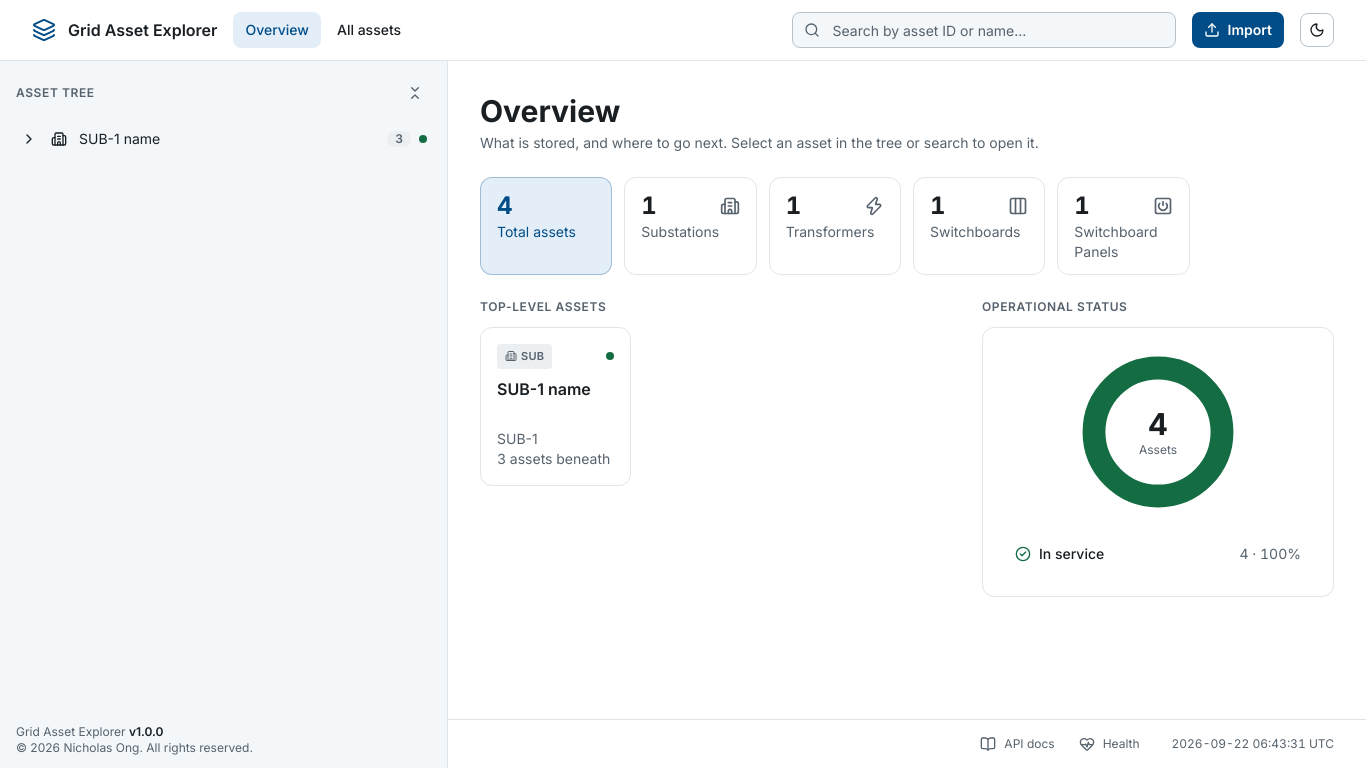
Test case: AssetTree › selecting a node navigates to /assets/:id
Click the list item "SUB-1 name 3" at {"x": 113, "y": 148}, box top-left (8, 121), bottom-right (439, 157)
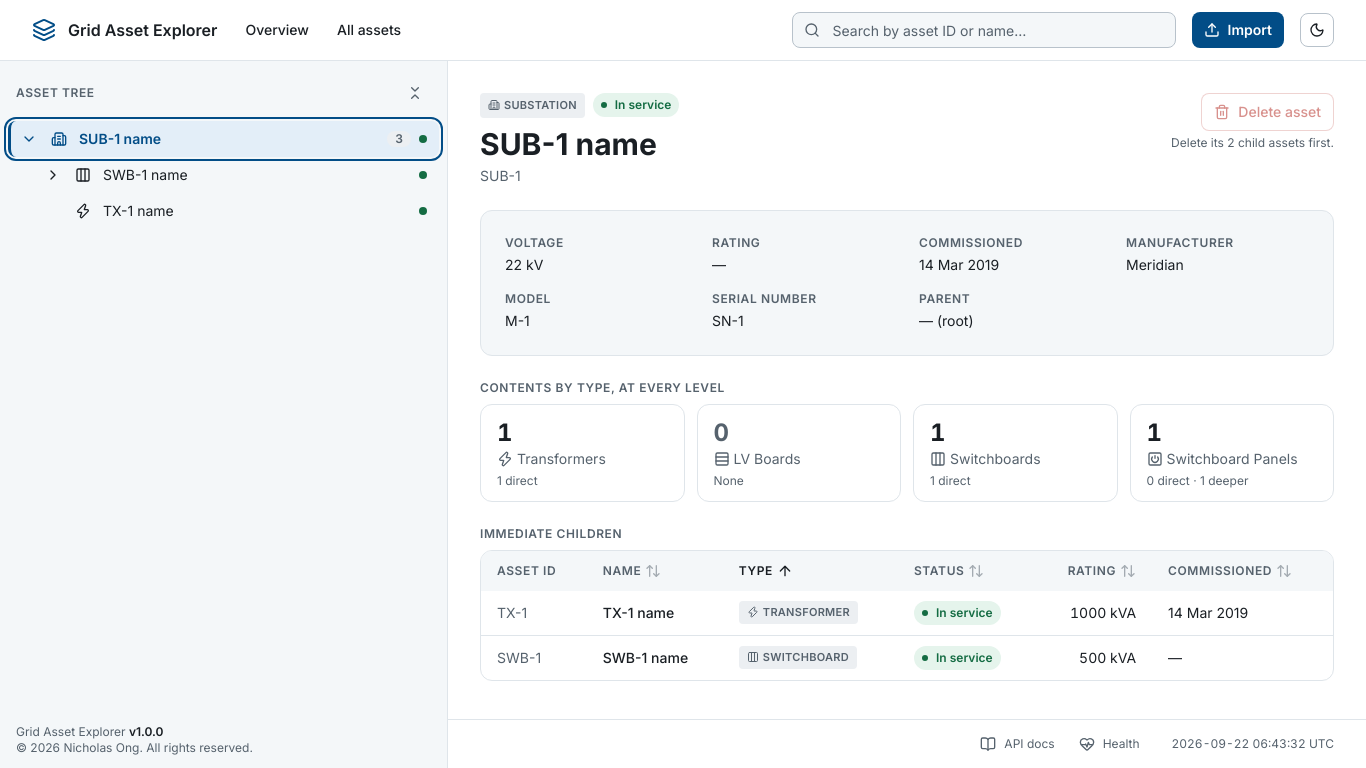
Expected: the list item "TX-1 name" is shown, top-left (75, 202), bottom-right (427, 228)
